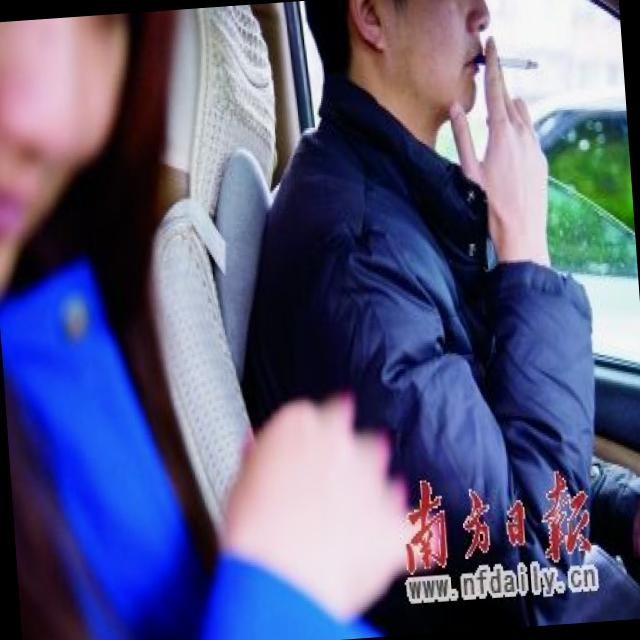cigarette: (500, 36, 549, 82)
